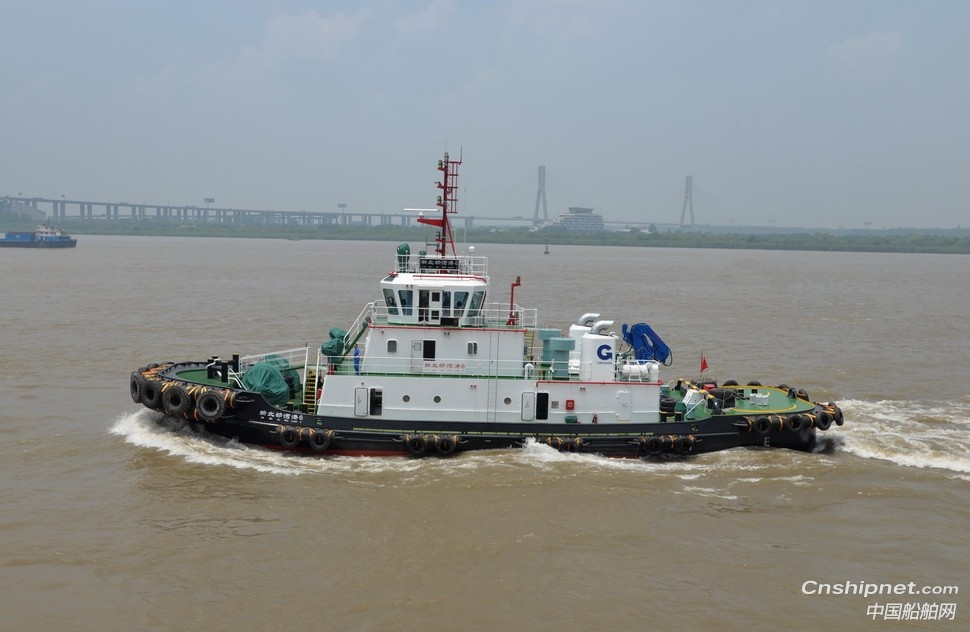otherboat: (109, 183, 858, 450), (1, 217, 81, 256)
